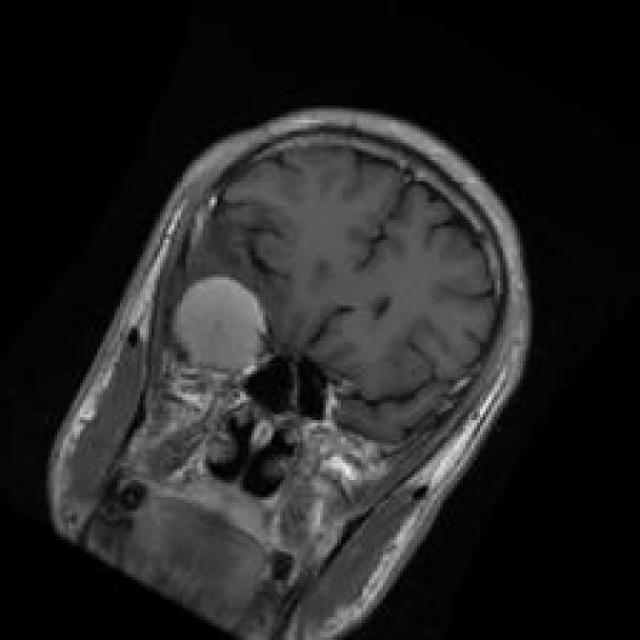meningioma_tumor: (157, 265, 286, 389)
